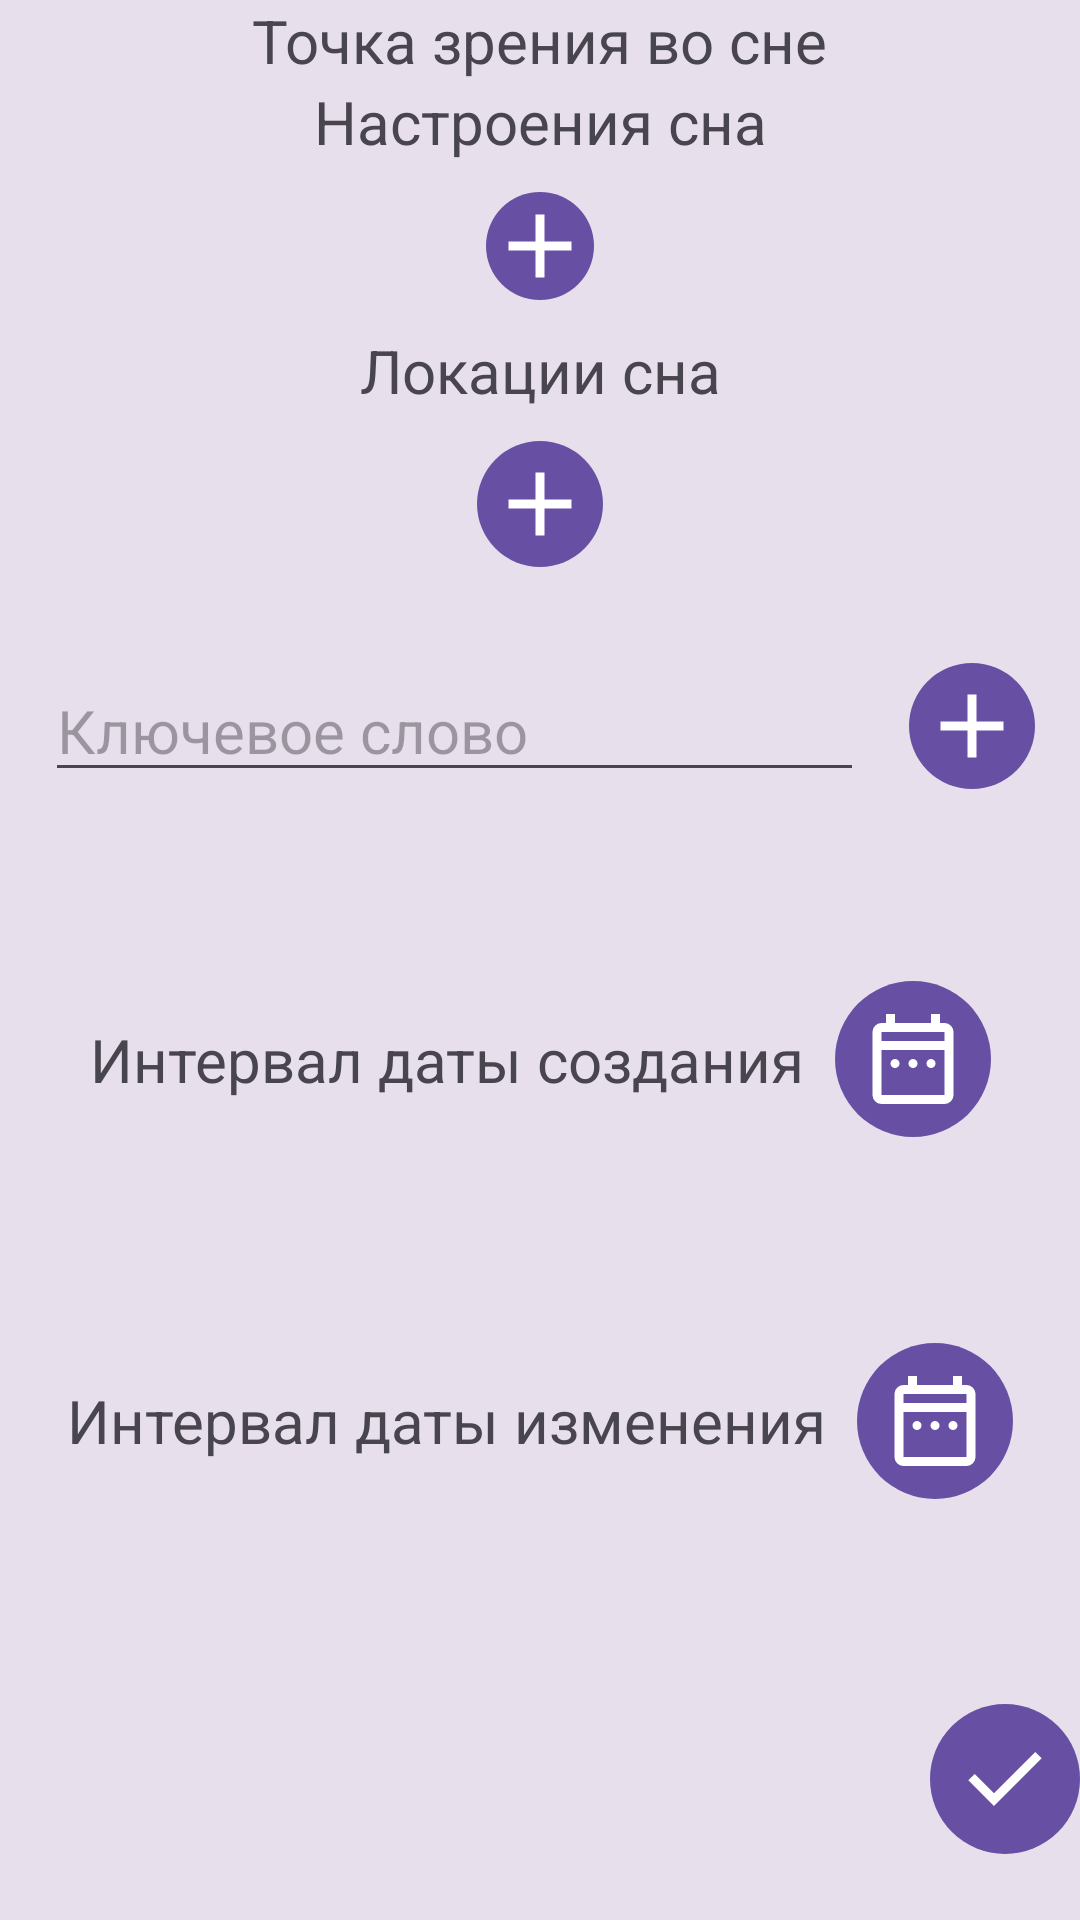

Screen size 1080 x 1920. Icon name, then its center in pixels as point (x, y):
all addmetaitem: point (540, 246), point (540, 504), point (972, 726)
all confirm: point (1005, 1779)
all date range: point (913, 1059), point (935, 1421)
